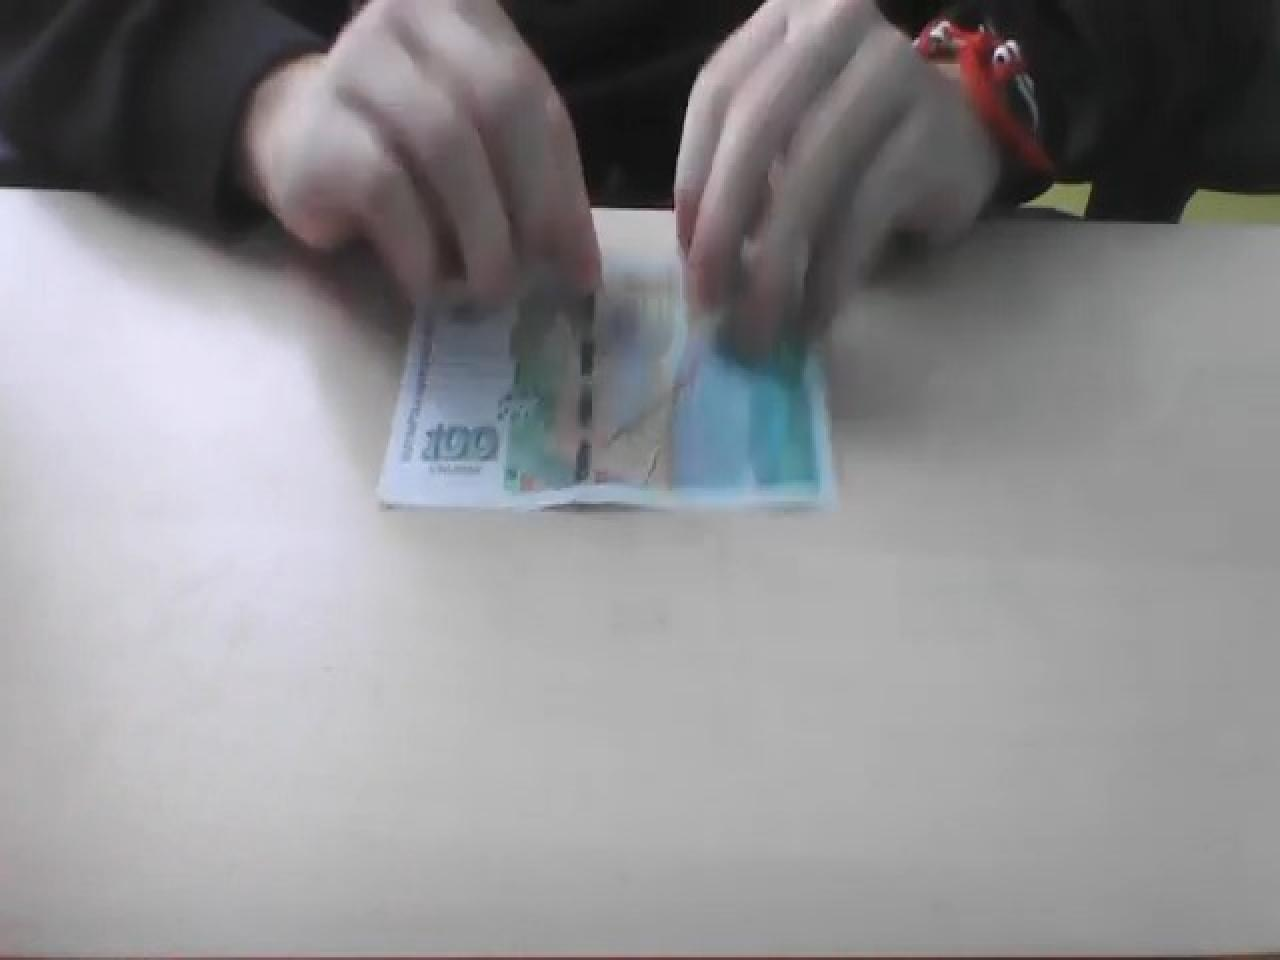100leva: (380, 251, 834, 514)
